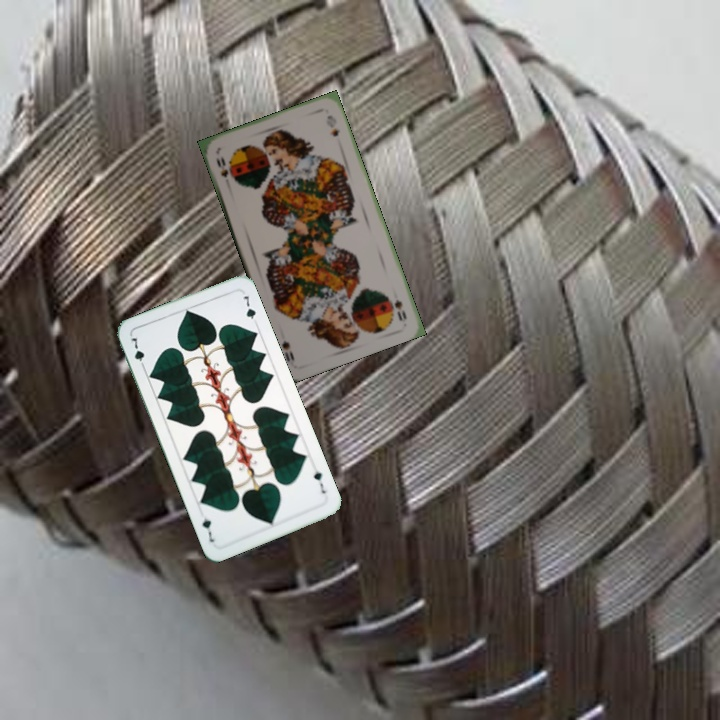G7: (127, 333, 148, 372), (309, 467, 328, 496)
SO: (212, 152, 235, 182), (390, 295, 409, 323)
